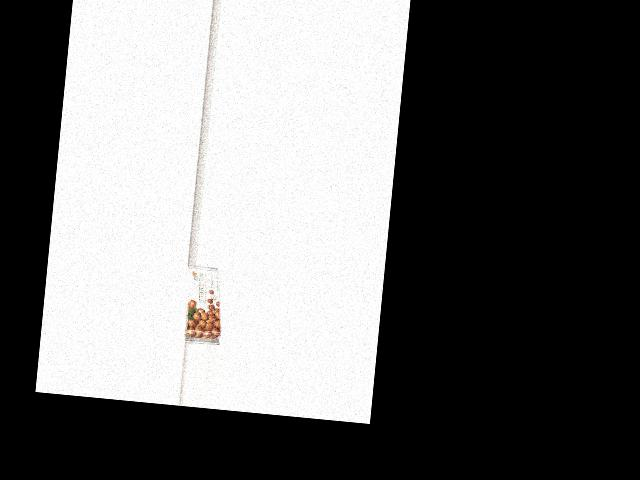chocolate: (183, 264, 227, 345)
